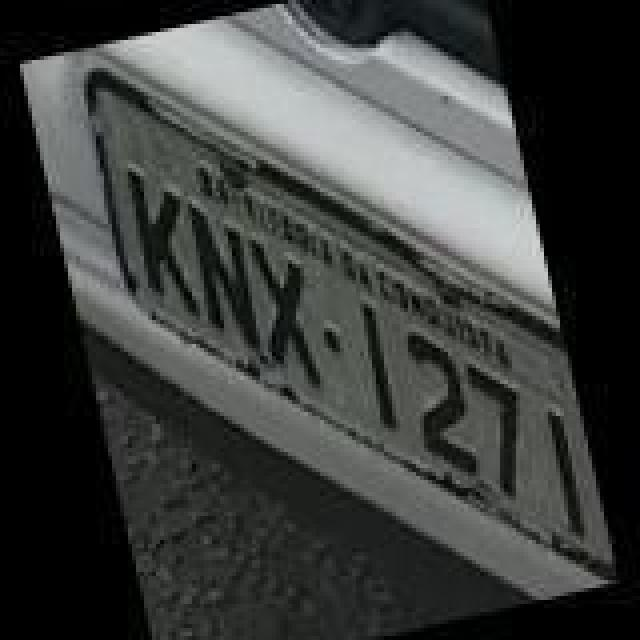1: (342, 288, 410, 432), (534, 398, 594, 538)
2: (392, 322, 488, 494)
7: (458, 346, 550, 510)
K: (112, 148, 208, 332)
N: (180, 180, 268, 356)
X: (238, 220, 330, 396)
